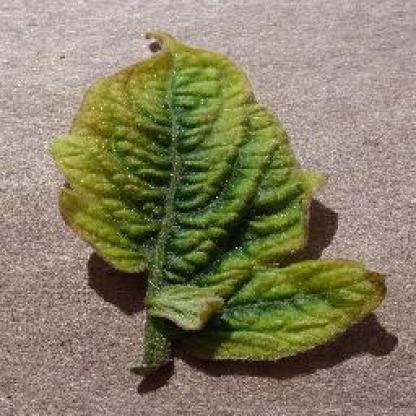bad leaf: (78, 58, 346, 361)
